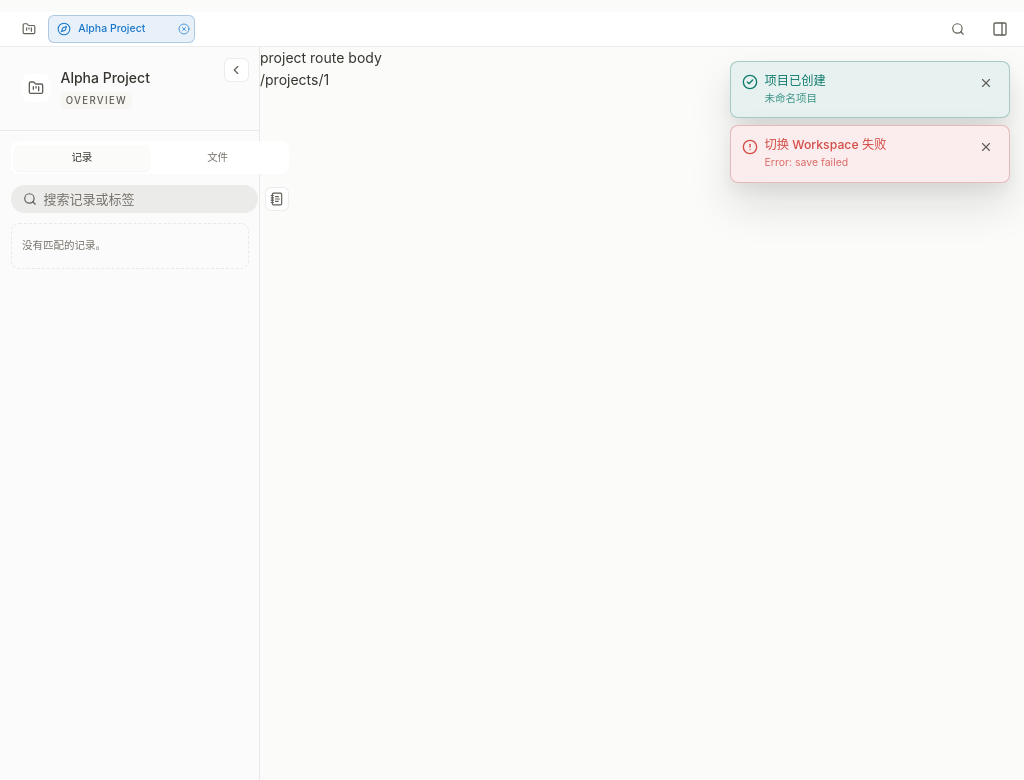
it: WorkspaceLayout › creates a project record from the sidebar and opens its focus page
The image size is (1024, 780).
Click the button named "新增记录": (277, 199) x1=264 y1=186 x2=289 y2=211
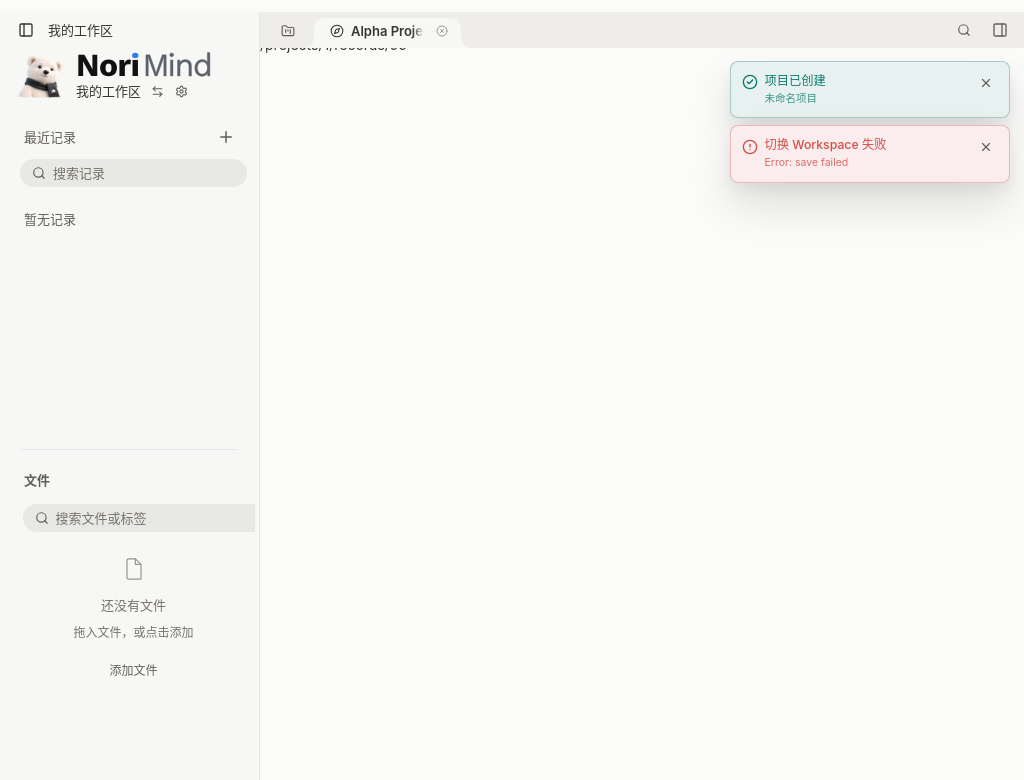
Now the text "record focus route body" is shown, box x1=260 y1=14 x2=420 y2=31
Now the text with test id "location-display" reads "/projects/1/records/99", box x1=260 y1=36 x2=407 y2=53
